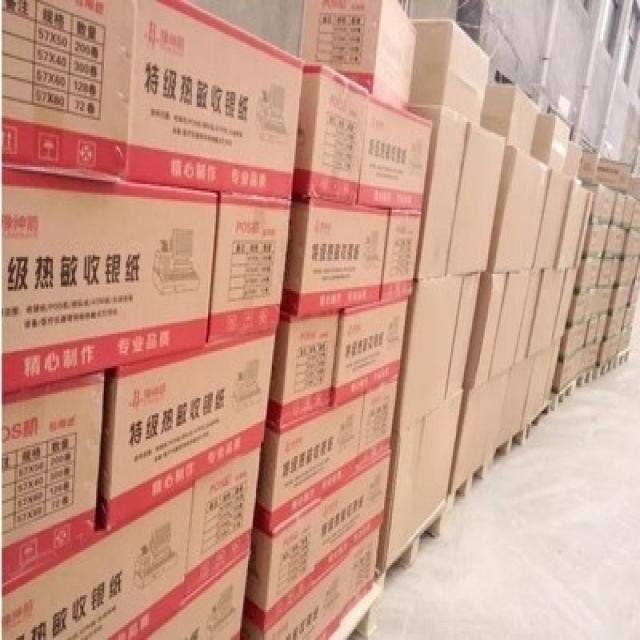box: (2, 166, 218, 393), (94, 324, 277, 535), (127, 0, 304, 201), (0, 481, 193, 638), (2, 1, 136, 181), (1, 369, 104, 590), (253, 393, 365, 537), (298, 0, 421, 110), (278, 199, 390, 316), (205, 192, 291, 342), (188, 444, 260, 604), (292, 63, 373, 203), (393, 274, 463, 430), (410, 103, 471, 279), (242, 501, 323, 632), (447, 120, 508, 275), (148, 549, 252, 638), (356, 91, 434, 209), (267, 308, 340, 433), (321, 454, 392, 581), (375, 414, 427, 583), (240, 562, 352, 638), (333, 297, 408, 408), (411, 19, 490, 124), (486, 147, 550, 276), (418, 391, 464, 528), (463, 273, 508, 388), (449, 375, 492, 494), (490, 269, 533, 375), (533, 167, 576, 269), (447, 274, 481, 399), (480, 85, 540, 154), (359, 376, 398, 477), (382, 206, 422, 303), (528, 268, 566, 356), (555, 186, 595, 268), (342, 527, 379, 610), (513, 268, 544, 366), (484, 366, 514, 461), (507, 352, 536, 438), (533, 115, 573, 172), (527, 342, 554, 422), (553, 268, 578, 342), (548, 332, 566, 400)
